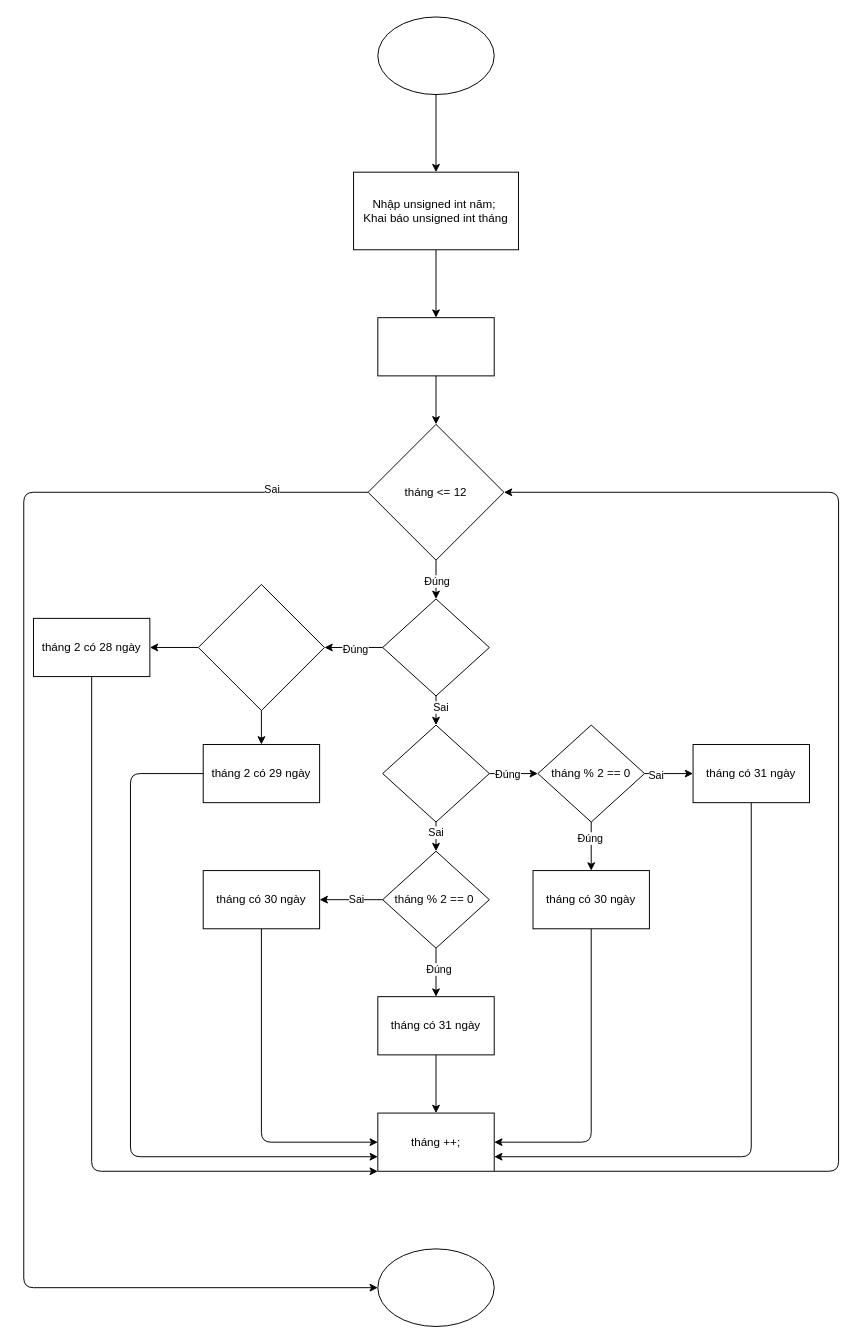
This 863x1343 diagram has some shape labels left out. The shapes that lost their labels are listed below. From the top down, each one's centre as x and y in pixels, then its label:
point 435,55: Bắt đầu
point 435,346: tháng = 1;
point 260,647: năm == năm nhuận
point 435,647: tháng = 2
point 435,773: tháng <= 7
point 435,1287: Kết thúc
